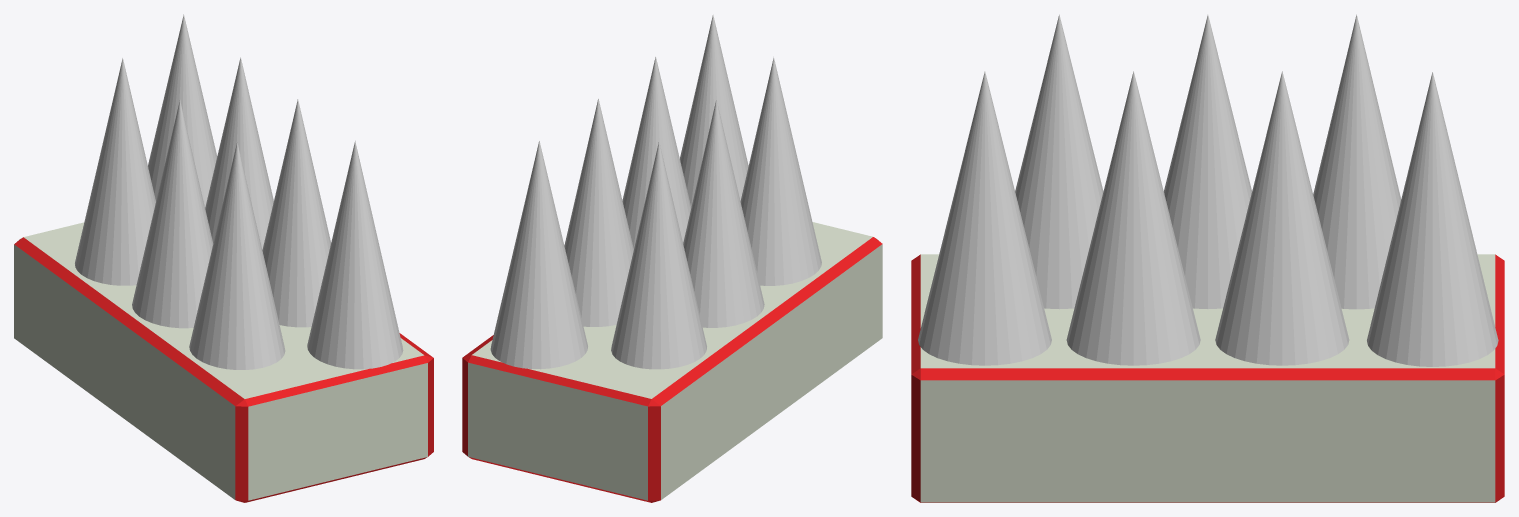
File: spike.fbx
The picture shows the model from 3 angles, left to right: view 1: azimuth 30°, elevation 25°; view 2: azimuth 150°, elevation 25°; view 3: azimuth 270°, elevation 25°; orthographic projection. The views are drawn at different scales.
Visible parts, largest first — view 1: Cube, Cone.006, Cone.004, Cone.005, Cone.001, Cone.003, Cone, Cone.002; view 2: Cube, Cone, Cone.001, Cone.005, Cone.004, Cone.002, Cone.003, Cone.006; view 3: Cube, Cone.006, Cone.002, Cone.003, Cone, Cone.001, Cone.005, Cone.004.
Boxes of the visible parts, left/top/right/bottom form: Cube: left=14, top=222, right=433, bottom=502; Cone.006: left=307, top=141, right=403, bottom=369; Cone.004: left=189, top=142, right=285, bottom=369; Cone.005: left=132, top=100, right=213, bottom=328; Cone.001: left=75, top=58, right=155, bottom=285; Cone.003: left=262, top=99, right=330, bottom=327; Cone: left=148, top=14, right=217, bottom=207; Cone.002: left=205, top=57, right=273, bottom=249; Cube: left=462, top=222, right=882, bottom=502; Cone: left=490, top=141, right=587, bottom=369; Cone.001: left=611, top=141, right=706, bottom=369; Cone.005: left=683, top=99, right=764, bottom=327; Cone.004: left=740, top=57, right=821, bottom=285; Cone.002: left=564, top=98, right=633, bottom=326; Cone.003: left=622, top=56, right=691, bottom=248; Cone.006: left=680, top=14, right=748, bottom=207; Cube: left=911, top=254, right=1504, bottom=502; Cone.006: left=918, top=71, right=1051, bottom=365; Cone.002: left=1215, top=71, right=1349, bottom=365; Cone.003: left=1066, top=71, right=1200, bottom=365; Cone: left=1367, top=72, right=1498, bottom=366; Cone.001: left=1313, top=14, right=1401, bottom=309; Cone.005: left=1164, top=15, right=1251, bottom=308; Cone.004: left=1015, top=14, right=1103, bottom=309.
Size of the model in its own units: 200 by 300 by 399.
